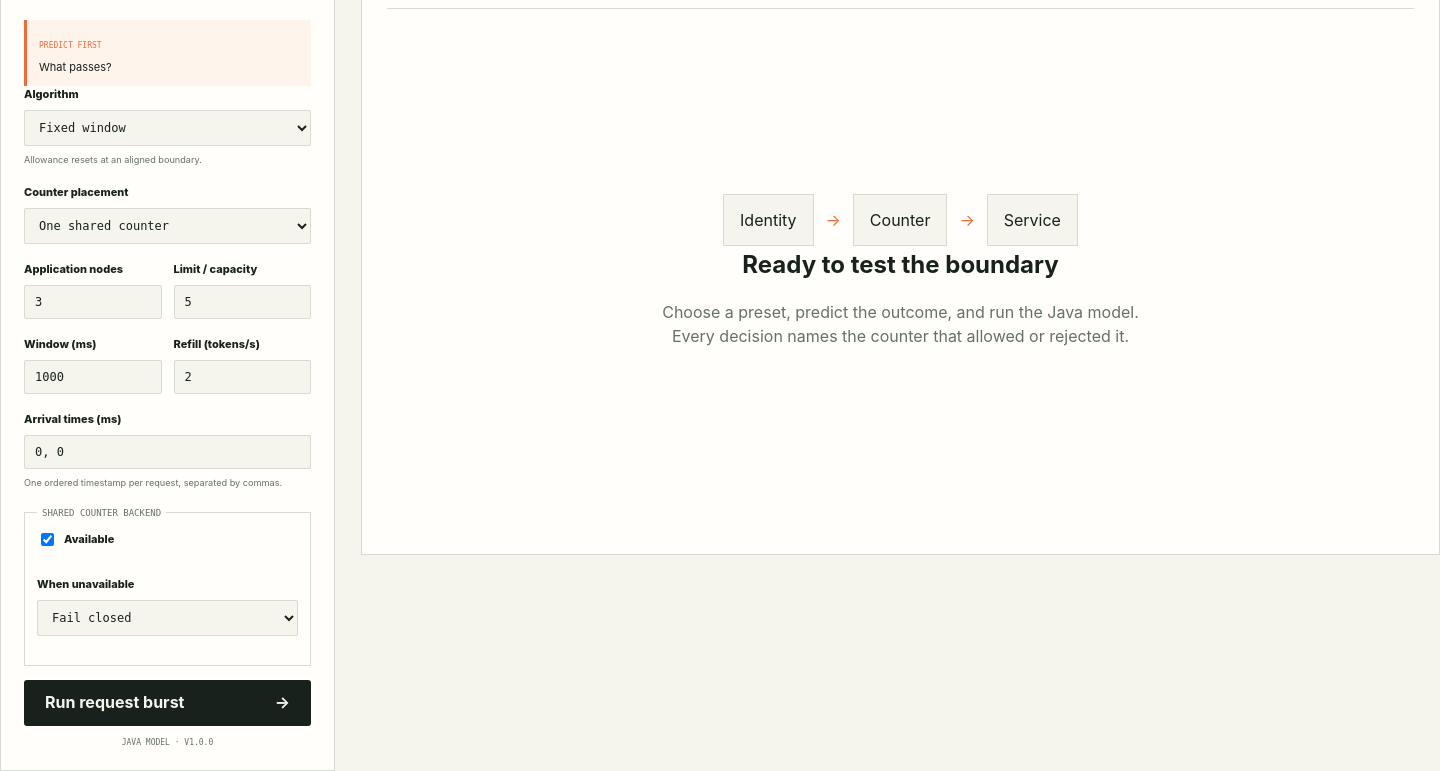
Test: Rate limiter playground › runs the Java model and explains enforcement scope
(page scrolled)
Click the button "Run request burst →" at (168, 703), box left=24, top=680, right=311, bottom=726
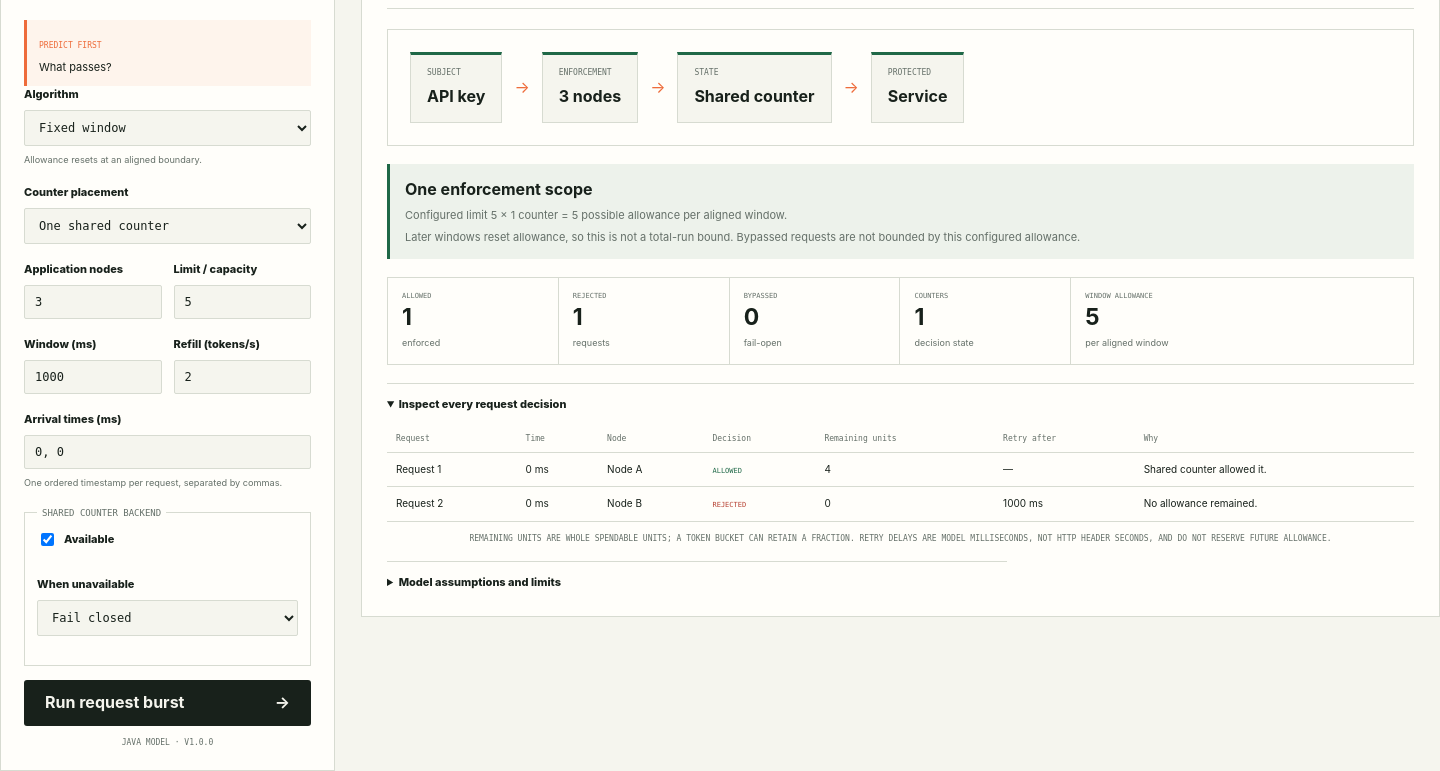
Expected: the text "Shared counter allowed it." is shown, left=1135, top=452, right=1414, bottom=487
Expected: the text "5 × 1 counter = 5" is shown, left=405, top=208, right=787, bottom=222
